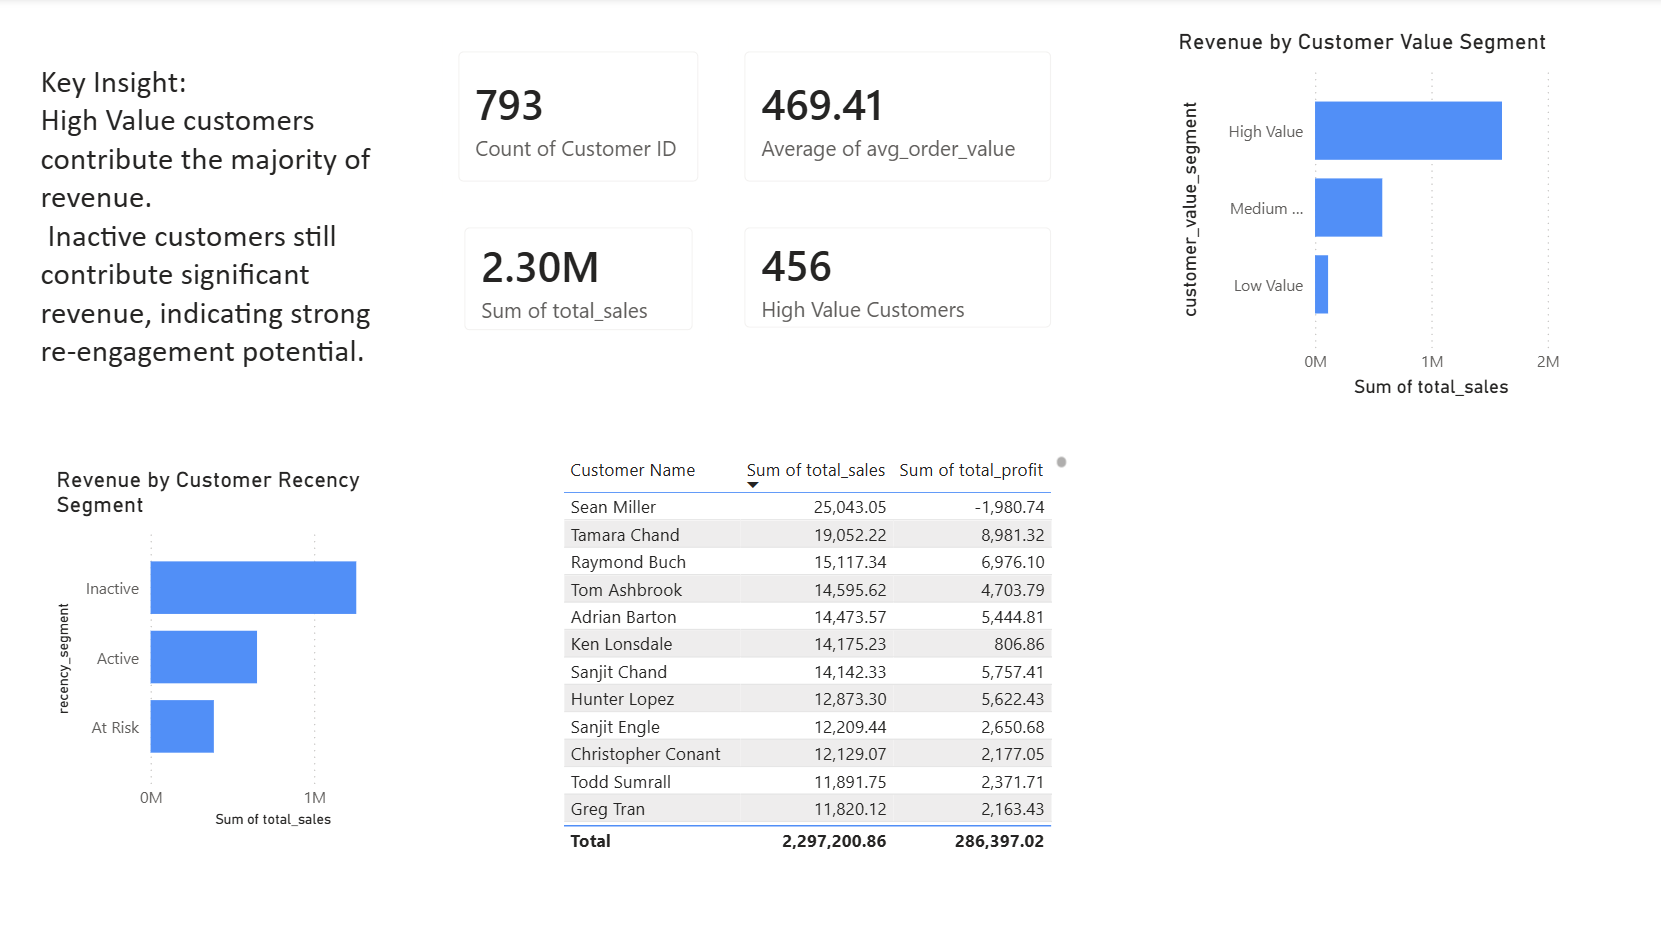

Layout of this report page (visuals, bound fields, positions):
{"tool":"powerbi","page":{"name":"Page 1","canvas":[1280,720],"ordinal":0},"visuals":[{"type":"cardVisual","fields":{"Data":["Count(customer_segmentation_data.Customer ID)"]},"box":[335.3,24.5,218.9,134.7],"z":0},{"type":"cardVisual","fields":{"Data":["Sum(customer_segmentation_data.total_sales)"]},"box":[339.9,159.2,209.8,113.3],"z":1},{"type":"cardVisual","fields":{"Data":["Avg(customer_segmentation_data.avg_order_value)"]},"box":[554.3,24.5,269.5,134.7],"z":2},{"type":"cardVisual","fields":{"Data":["Count(customer_segmentation_data.Customer ID)"]},"box":[554.3,159.2,269.5,111.8],"z":3},{"type":"clusteredBarChart","title":"Revenue by Customer Value Segment","fields":{"Category":["customer_segmentation_data.customer_value_segment"],"Y":["Sum(customer_segmentation_data.total_sales)"]},"box":[898.8,24.5,301.6,286.3],"z":4},{"type":"clusteredBarChart","title":"Revenue by Customer Recency Segment","fields":{"Category":["customer_segmentation_data.recency_segment"],"Y":["Sum(customer_segmentation_data.total_sales)"]},"box":[39.8,359.8,278.7,280.2],"z":5},{"type":"tableEx","fields":{"Values":["customer_segmentation_data.Customer Name","Sum(customer_segmentation_data.total_sales)","Sum(customer_segmentation_data.total_profit)"]},"box":[427.2,346,396.6,313.9],"z":6},{"type":"textbox","box":[27.6,44.4,290.9,289.4],"z":7}]}

Visuals, with their boxes in screenshot pixels (x1, y1, x2, y2), scaled from the page's 1280x720 canvas onto the 1661x933 screenshot:
cardVisual - Count(customer_segmentation_data.Customer ID): [x1=435, y1=32, x2=719, y2=206]
cardVisual - Sum(customer_segmentation_data.total_sales): [x1=441, y1=206, x2=713, y2=353]
cardVisual - Avg(customer_segmentation_data.avg_order_value): [x1=719, y1=32, x2=1069, y2=206]
cardVisual - Count(customer_segmentation_data.Customer ID): [x1=719, y1=206, x2=1069, y2=351]
"Revenue by Customer Value Segment" clusteredBarChart: [x1=1166, y1=32, x2=1558, y2=403]
"Revenue by Customer Recency Segment" clusteredBarChart: [x1=52, y1=466, x2=413, y2=829]
tableEx - customer_segmentation_data.Customer Name x Sum(customer_segmentation_data.total_sales): [x1=554, y1=448, x2=1069, y2=855]
textbox: [x1=36, y1=58, x2=413, y2=433]
